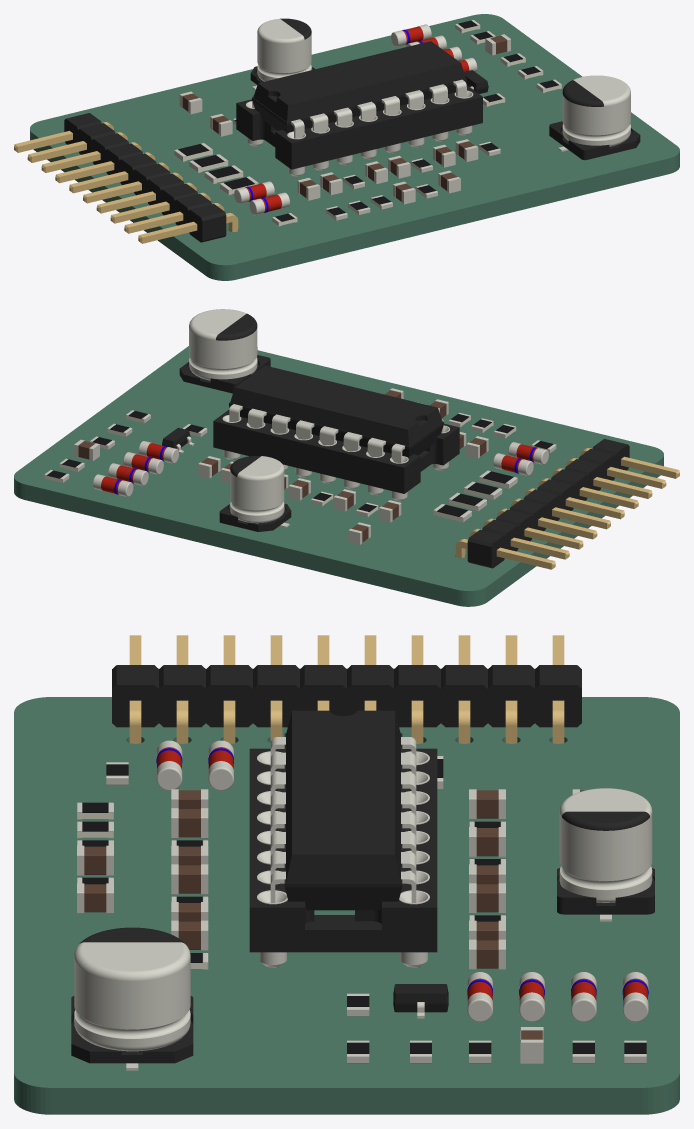
Rendered from psh-card1.glb.
The picture shows the model from 3 angles, top to bottom: view 1: azimuth 30°, elevation 25°; view 2: azimuth 150°, elevation 25°; view 3: azimuth 270°, elevation 25°; orthographic projection. The views are drawn at different scales.
Visible parts, largest first — view 1: =>[0:1:1:22], =>[0:1:1:17], =>[0:1:1:21], =>[0:1:1:19], =>[0:1:1:15], =>[0:1:1:7] (×10), =>[0:1:1:9], =>[0:1:1:3] (×3), =>[0:1:1:11] (×3); view 2: =>[0:1:1:22], =>[0:1:1:17], =>[0:1:1:21], =>[0:1:1:19], =>[0:1:1:15], =>[0:1:1:9], =>[0:1:1:3] (×6), =>[0:1:1:11] (×4), =>[0:1:1:13]; view 3: =>[0:1:1:22], =>[0:1:1:17], =>[0:1:1:21], =>[0:1:1:19], =>[0:1:1:15], =>[0:1:1:7] (×15), =>[0:1:1:9], =>[0:1:1:3] (×6), =>[0:1:1:13].
Part boxes in pixels (x1=…): =>[0:1:1:22]: x1=30, y1=14, x2=679, y2=280; =>[0:1:1:17]: x1=14, y1=113, x2=238, y2=243; =>[0:1:1:21]: x1=252, y1=41, x2=466, y2=138; =>[0:1:1:19]: x1=236, y1=85, x2=482, y2=176; =>[0:1:1:15]: x1=549, y1=75, x2=640, y2=160; =>[0:1:1:7] (×10): x1=179, y1=34, x2=510, y2=204; =>[0:1:1:9]: x1=250, y1=18, x2=315, y2=90; =>[0:1:1:3] (×3): x1=234, y1=24, x2=431, y2=215; =>[0:1:1:11] (×3): x1=174, y1=143, x2=243, y2=183; =>[0:1:1:22]: x1=14, y1=346, x2=663, y2=606; =>[0:1:1:17]: x1=455, y1=438, x2=679, y2=569; =>[0:1:1:21]: x1=229, y1=365, x2=443, y2=462; =>[0:1:1:19]: x1=213, y1=409, x2=459, y2=501; =>[0:1:1:15]: x1=179, y1=309, x2=270, y2=393; =>[0:1:1:9]: x1=219, y1=456, x2=291, y2=531; =>[0:1:1:3] (×6): x1=92, y1=441, x2=548, y2=496; =>[0:1:1:11] (×4): x1=433, y1=470, x2=517, y2=522; =>[0:1:1:13]: x1=162, y1=427, x2=194, y2=453; =>[0:1:1:22]: x1=14, y1=697, x2=679, y2=1114; =>[0:1:1:17]: x1=112, y1=635, x2=581, y2=743; =>[0:1:1:21]: x1=270, y1=710, x2=416, y2=910; =>[0:1:1:19]: x1=249, y1=748, x2=437, y2=967; =>[0:1:1:15]: x1=71, y1=927, x2=193, y2=1070; =>[0:1:1:7] (×15): x1=77, y1=789, x2=543, y2=1063; =>[0:1:1:9]: x1=557, y1=788, x2=654, y2=921; =>[0:1:1:3] (×6): x1=156, y1=740, x2=648, y2=1022; =>[0:1:1:13]: x1=393, y1=984, x2=448, y2=1018.
Bounding box in the file's own units: 54.54 × 10.46 × 36.
